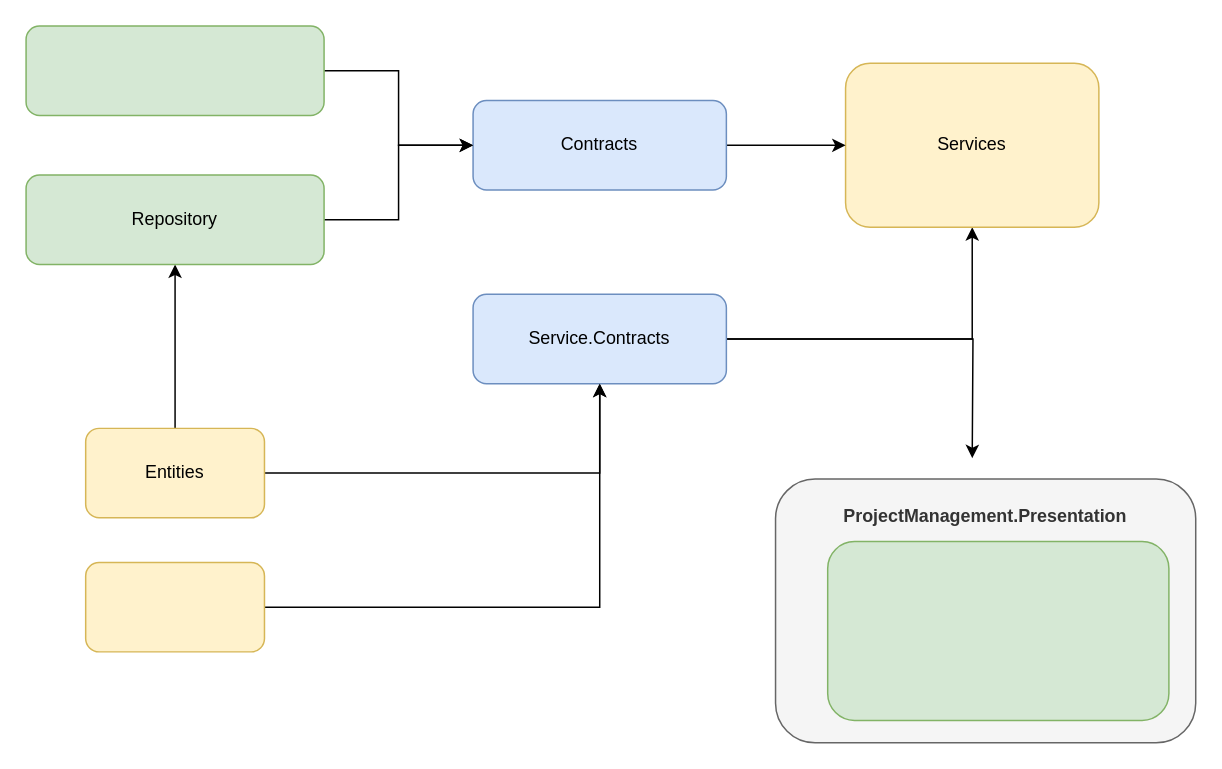
This 1222x769 diagram has some shape labels left out. The centre of each missing label's shape, as x and y in pixels:
Controllers: (997,630)
LoggerService: (174,70)
Shared: (174,606)
